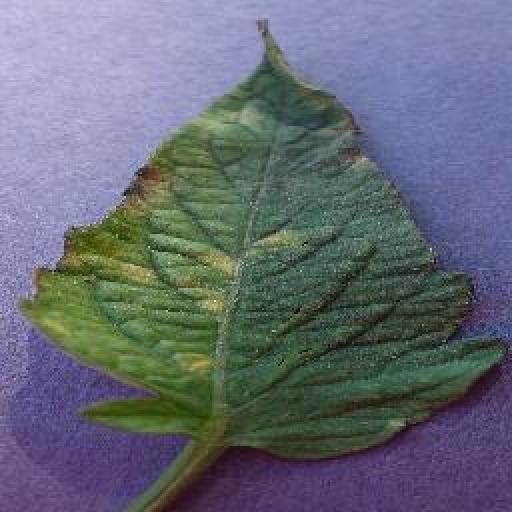disease_tomato: (19, 20, 508, 464)
